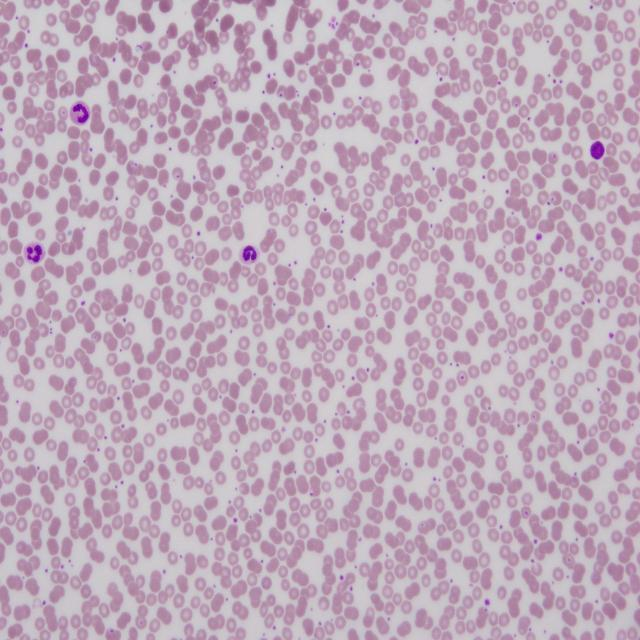cell: (25, 242, 45, 263), (241, 245, 258, 263)
